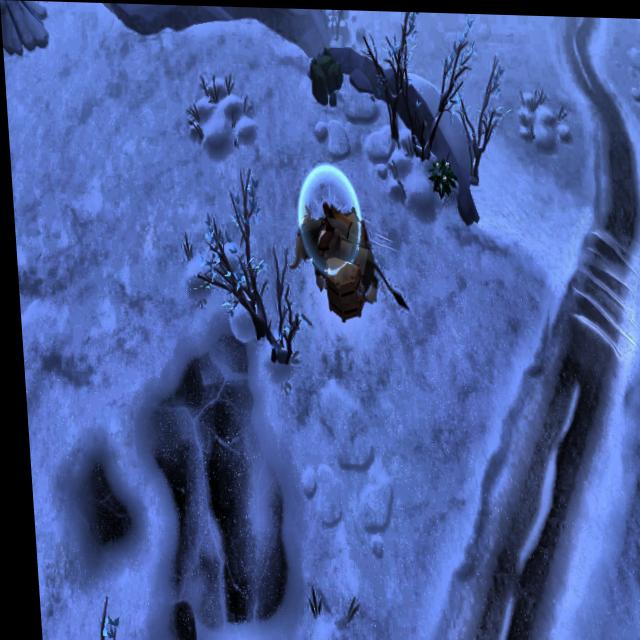fiber_t3: (422, 150, 456, 199)
rock_t3: (305, 47, 346, 100)
